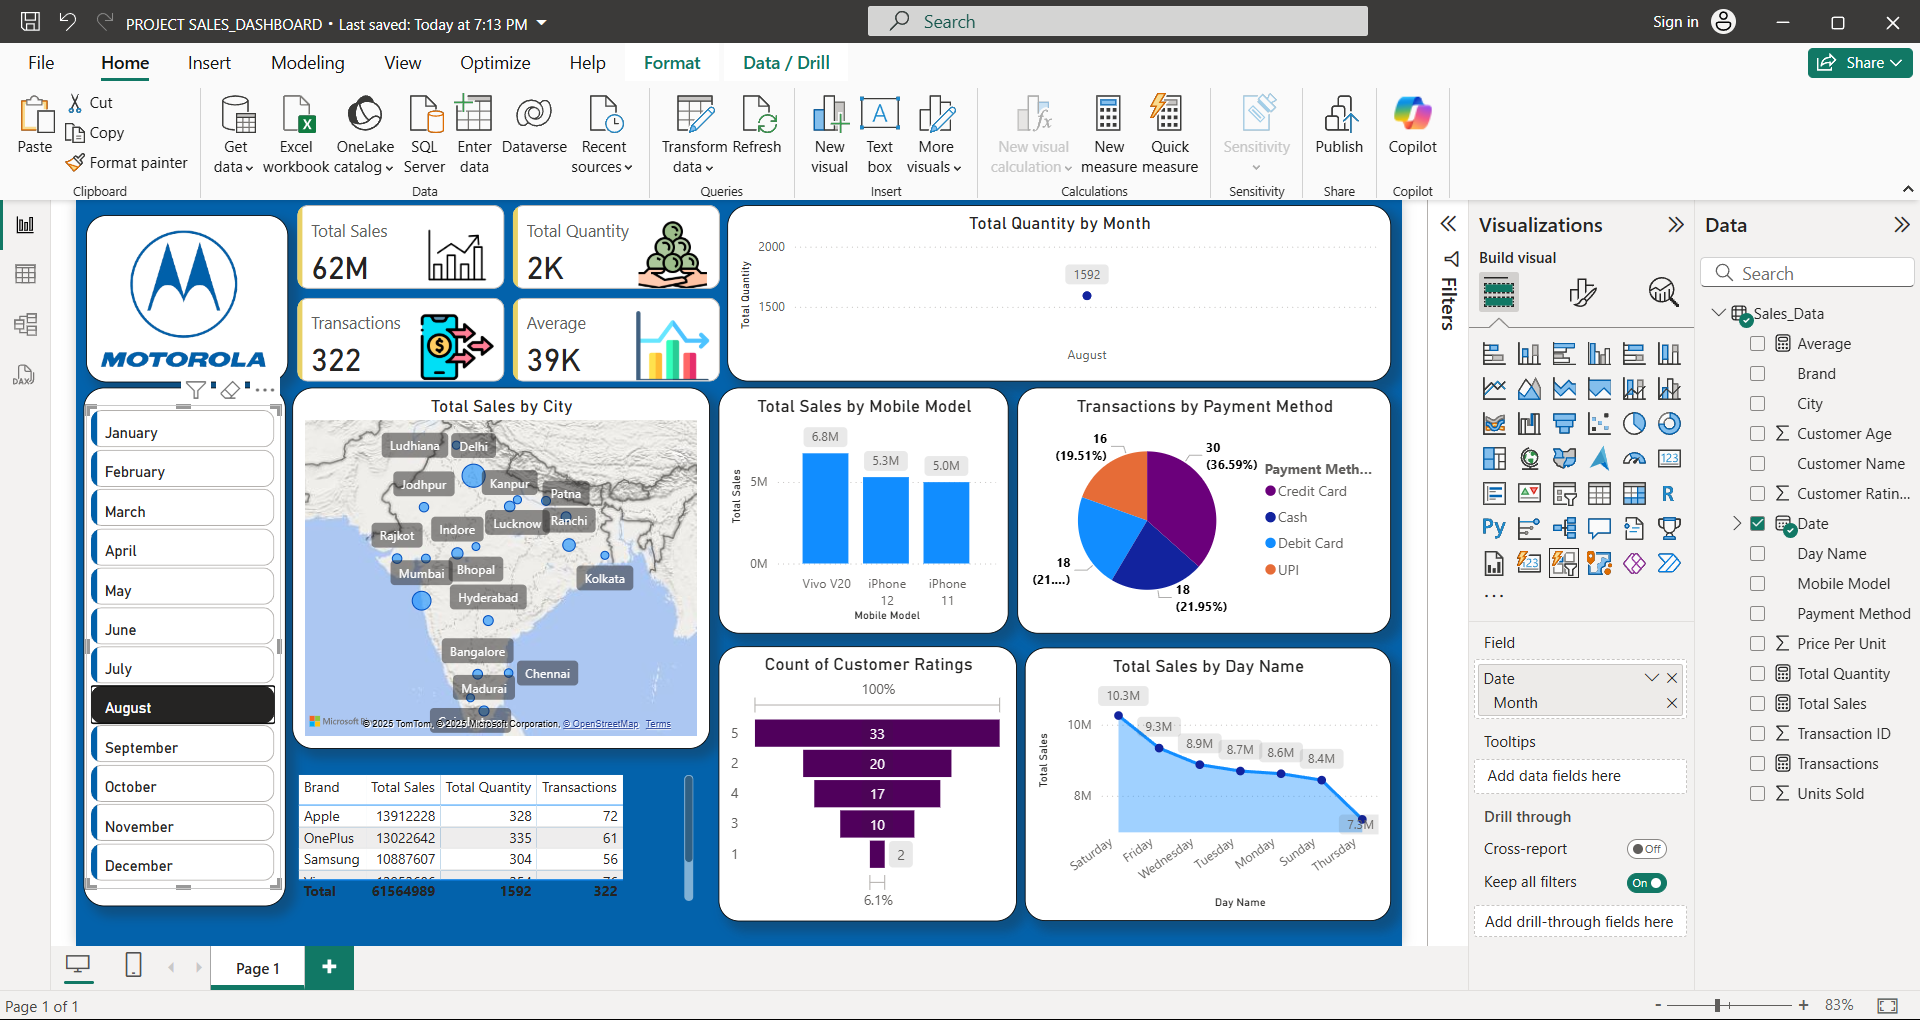

What the dashboard file says about the page in this screenshot:
{"tool":"powerbi","page":{"name":"Page 1","canvas":[1280,720],"ordinal":0},"visuals":[{"type":"shape","box":[9.7,14.5,195.4,161.7],"z":0},{"type":"image","box":[9.7,10.9,188.2,168.9],"z":1000},{"type":"shape","box":[6.9,181.1,194.9,500.9],"z":2000},{"type":"advancedSlicerVisual","fields":{"Values":["Sales_Data.Date.Variation.Date Hierarchy.Month"]},"box":[9.6,197.6,188,466.6],"z":3000},{"type":"cardVisual","fields":{"Data":["Sales_Data.Total Sales","Sales_Data.Total Quantity","Sales_Data.Transactions","Sales_Data.Average"]},"box":[208.7,0,419.8,181],"z":4000},{"type":"map","fields":{"Category":["Sales_Data.City"],"Size":["Sales_Data.Total Sales"]},"box":[208.7,181,403,348.7],"z":5000},{"type":"lineChart","fields":{"Y":["Sales_Data.Total Quantity"],"Category":["Sales_Data.Date.Variation.Date Hierarchy.Month","Sales_Data.Day Name"]},"box":[628.6,4.8,640.6,170.1],"z":6000},{"type":"clusteredColumnChart","fields":{"Category":["Sales_Data.Mobile Model"],"Y":["Sales_Data.Total Sales"]},"box":[620.1,181,279.9,237.7],"z":7000},{"type":"pieChart","fields":{"Category":["Sales_Data.Payment Method"],"Y":["Sales_Data.Transactions"]},"box":[908.4,181,360.7,237.7],"z":8000},{"type":"funnel","title":"Count of Customer Ratings","fields":{"Category":["Sales_Data.Customer Ratings"],"Y":["CountNonNull(Sales_Data.Customer Ratings)"]},"box":[620.1,430.7,288.3,265.4],"z":9000},{"type":"areaChart","fields":{"Category":["Sales_Data.Day Name"],"Y":["Sales_Data.Total Sales"]},"box":[915.7,431.9,353.5,264.2],"z":10000},{"type":"tableEx","fields":{"Values":["Sales_Data.Brand","Sales_Data.Total Sales","Sales_Data.Total Quantity","Sales_Data.Transactions"]},"box":[208.7,550.1,392.1,131.5],"z":10001}]}

Visuals, with their boxes on the page's 1280x720 design canvas (x1, y1, x2, y2). These are canvas units, not pixel positions in the 1920x1020 screenshot, which may show the page scaled, cropped or inside an application window:
shape: [10, 14, 205, 176]
image: [10, 11, 198, 180]
shape: [7, 181, 202, 682]
advancedSlicerVisual - Sales_Data.Date.Variation.Date Hierarchy.Month: [10, 198, 198, 664]
cardVisual - Sales_Data.Total Sales x Sales_Data.Total Quantity: [209, 0, 628, 181]
map - Sales_Data.City x Sales_Data.Total Sales: [209, 181, 612, 530]
lineChart - Sales_Data.Total Quantity x Sales_Data.Date.Variation.Date Hierarchy.Month: [629, 5, 1269, 175]
clusteredColumnChart - Sales_Data.Mobile Model x Sales_Data.Total Sales: [620, 181, 900, 419]
pieChart - Sales_Data.Payment Method x Sales_Data.Transactions: [908, 181, 1269, 419]
"Count of Customer Ratings" funnel: [620, 431, 908, 696]
areaChart - Sales_Data.Day Name x Sales_Data.Total Sales: [916, 432, 1269, 696]
tableEx - Sales_Data.Brand x Sales_Data.Total Sales: [209, 550, 601, 682]
